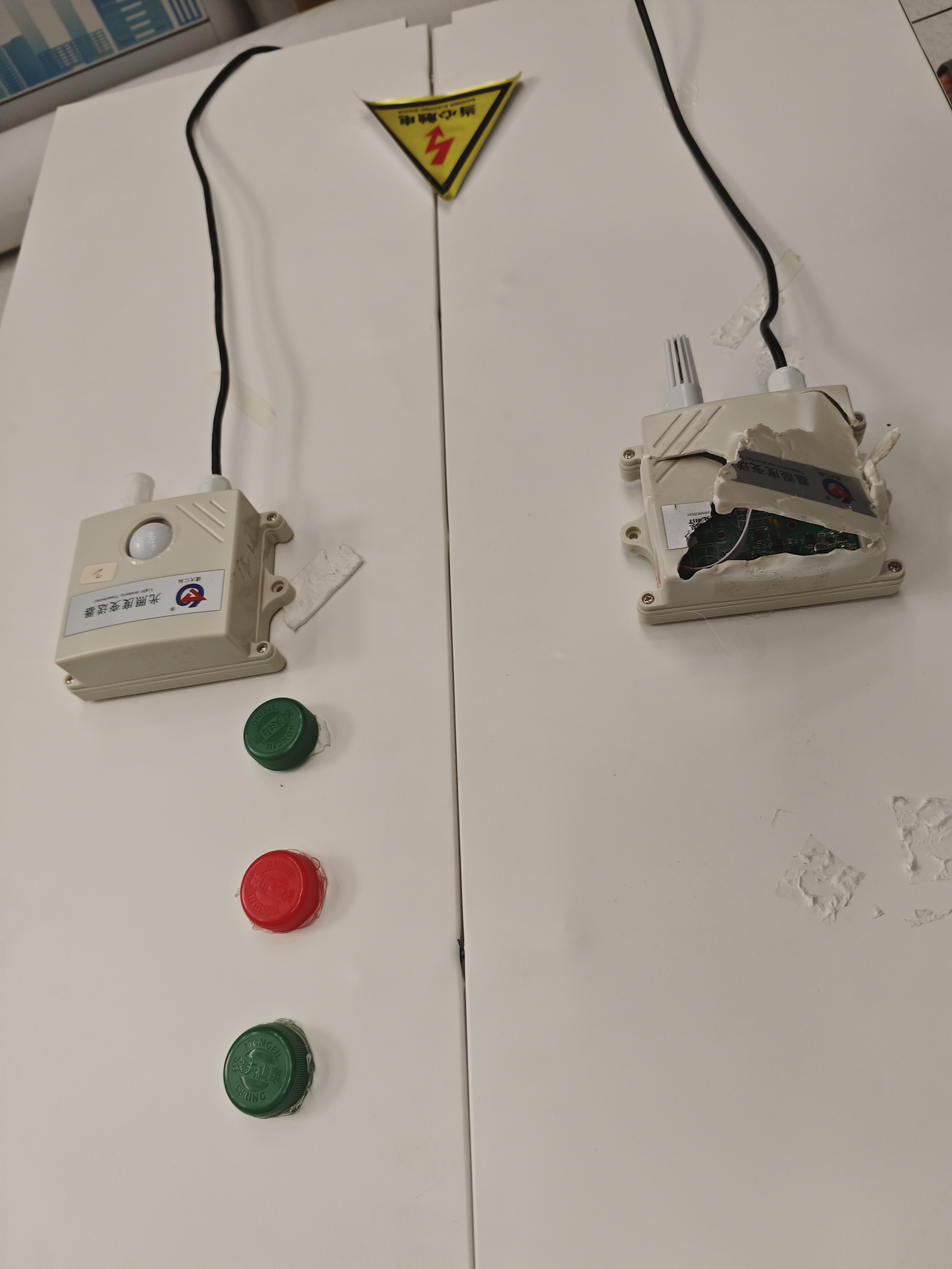red_warning: (223, 846, 378, 944)
sensor_damage: (593, 285, 913, 643)
